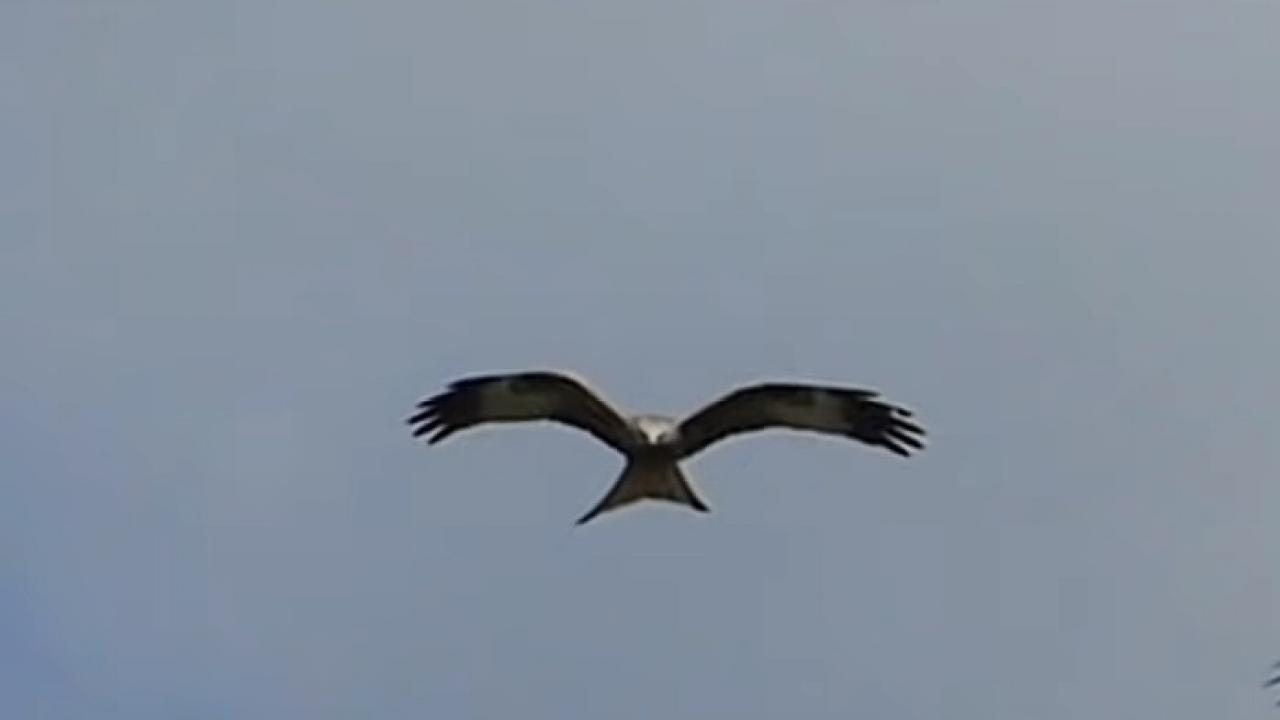Bird: (402, 363, 934, 532)
